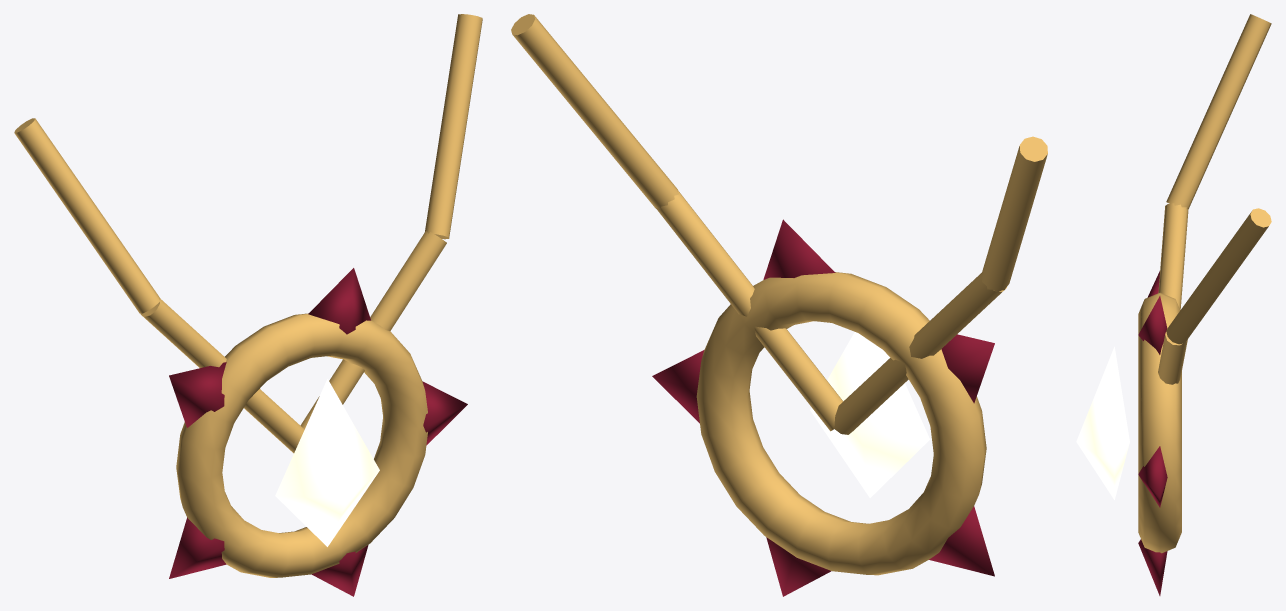
The model's file is boss_crimson_glory_accessory_3.glb.
The picture shows the model from 3 angles, left to right: view 1: azimuth 30°, elevation 25°; view 2: azimuth 150°, elevation 25°; view 3: azimuth 270°, elevation 25°; orthographic projection. The views are drawn at different scales.
Visible parts, largest first — view 1: Boss_crimson_glory_1, Boss_crimson_glory_0, Boss_crimson_glory_2; view 2: Boss_crimson_glory_1, Boss_crimson_glory_0, Boss_crimson_glory_2; view 3: Boss_crimson_glory_1, Boss_crimson_glory_2, Boss_crimson_glory_0.
Part boxes in pixels (x1,y1,x2,y2): Boss_crimson_glory_1: (14, 14, 482, 577); Boss_crimson_glory_0: (169, 268, 467, 596); Boss_crimson_glory_2: (275, 379, 379, 546); Boss_crimson_glory_1: (511, 14, 1047, 575); Boss_crimson_glory_0: (652, 219, 994, 596); Boss_crimson_glory_2: (810, 332, 929, 497); Boss_crimson_glory_1: (1138, 14, 1271, 553); Boss_crimson_glory_2: (1076, 346, 1129, 499); Boss_crimson_glory_0: (1138, 271, 1167, 595).
Bounding box in the file's own units: 0.2925 × 0.3029 × 0.1162.
